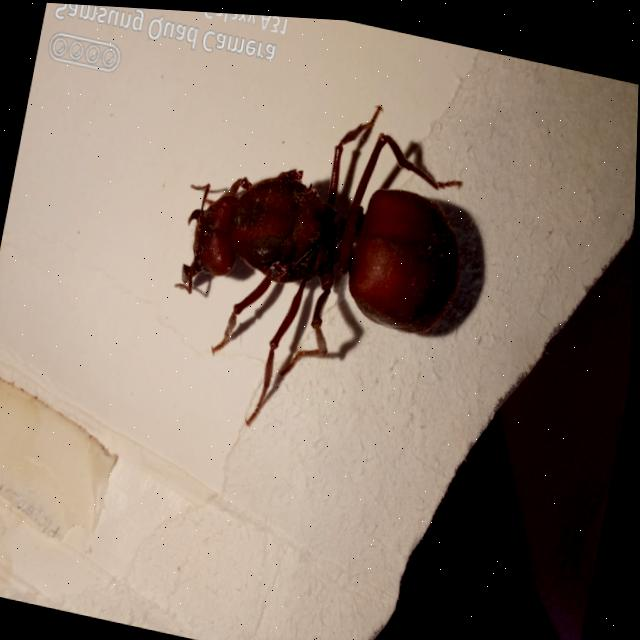Alive-Female-Dealate: (150, 63, 490, 462)
